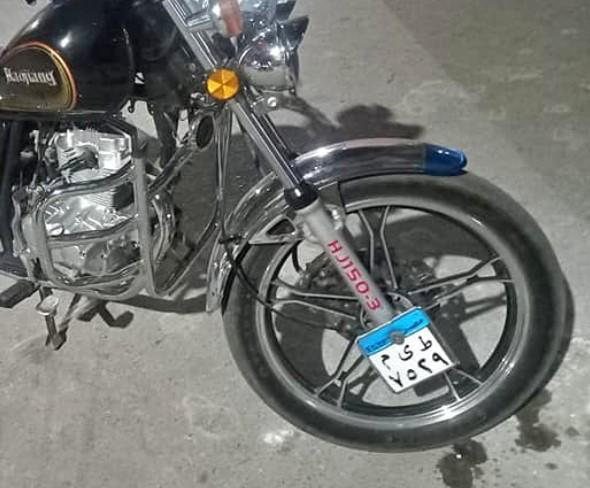License Plate: (352, 310, 463, 394)
